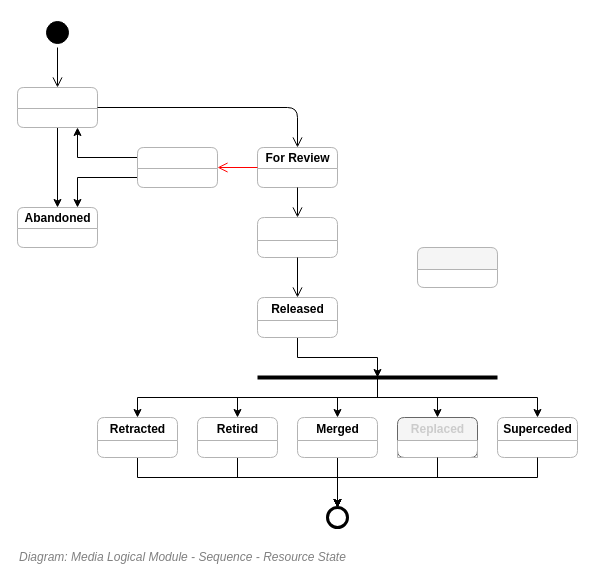
This 595x585 diagram has some shape labels left out. Each missing label, with the centre of its shape:
"Approved" belongs at point 297,237.
"Draft" belongs at point 57,107.
"Endorsed" belongs at point 457,267.
"Rejected" belongs at point 177,167.
